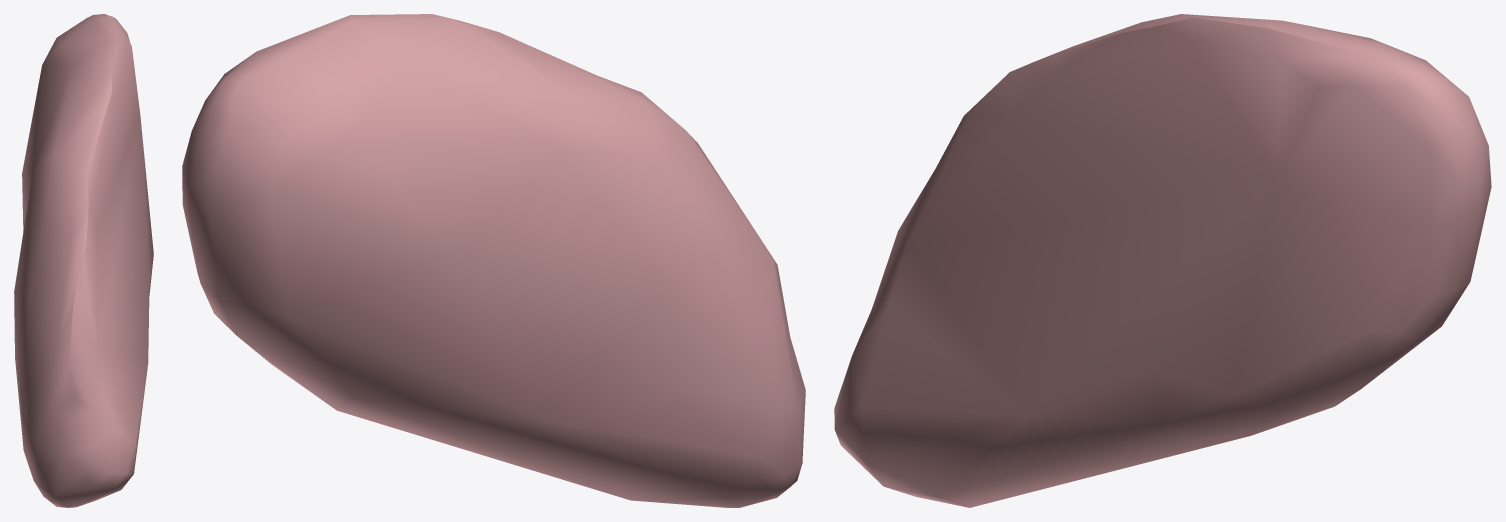
The model's file is fma59803_fj2766.glb.
3 renders of one model, left to right at view 1: azimuth 30°, elevation 25°; view 2: azimuth 150°, elevation 25°; view 3: azimuth 270°, elevation 25°, orthographic. The views are drawn at different scales.
Visible parts, largest first — view 1: FMA59803_FJ2766; view 2: FMA59803_FJ2766; view 3: FMA59803_FJ2766.
Boxes of the visible parts, left/top/right/bottom form: FMA59803_FJ2766: left=14, top=14, right=153, bottom=507; FMA59803_FJ2766: left=182, top=14, right=805, bottom=507; FMA59803_FJ2766: left=834, top=14, right=1491, bottom=507.
Size of the model in its own units: 0.0159 by 0.0224 by 0.0229.
